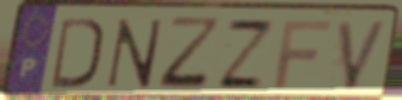D: (49, 15, 105, 90)
F: (272, 18, 334, 91)
N: (103, 17, 166, 90)
V: (336, 17, 392, 92)
Z: (156, 15, 225, 93), (214, 17, 278, 91)
